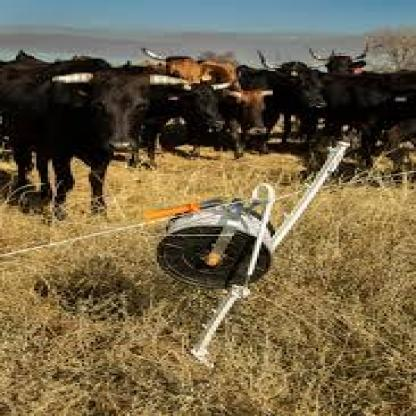cow: (0, 64, 175, 216), (246, 58, 328, 144), (166, 82, 227, 154), (226, 88, 270, 138), (154, 52, 212, 84)
